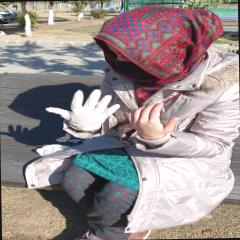gloved: (46, 89, 120, 128)
not-gloved: (128, 104, 180, 136)
